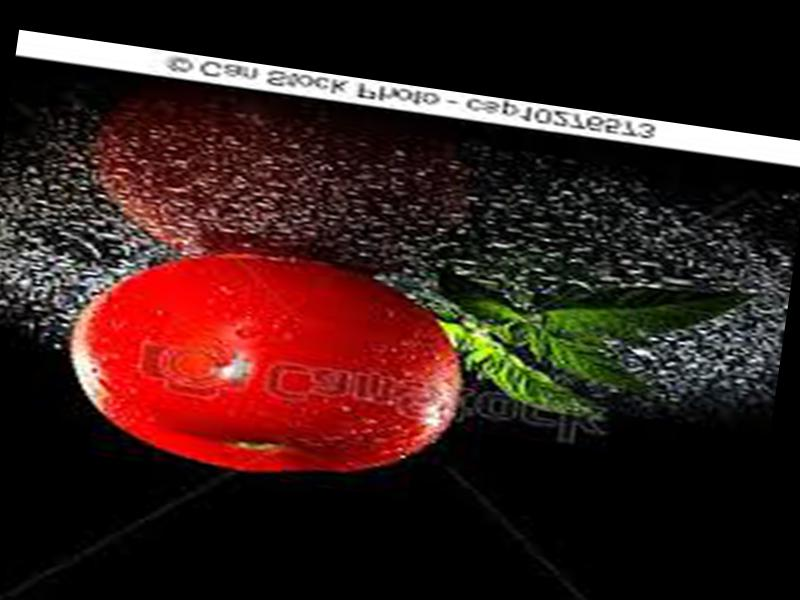Tomato: (58, 230, 474, 499)
